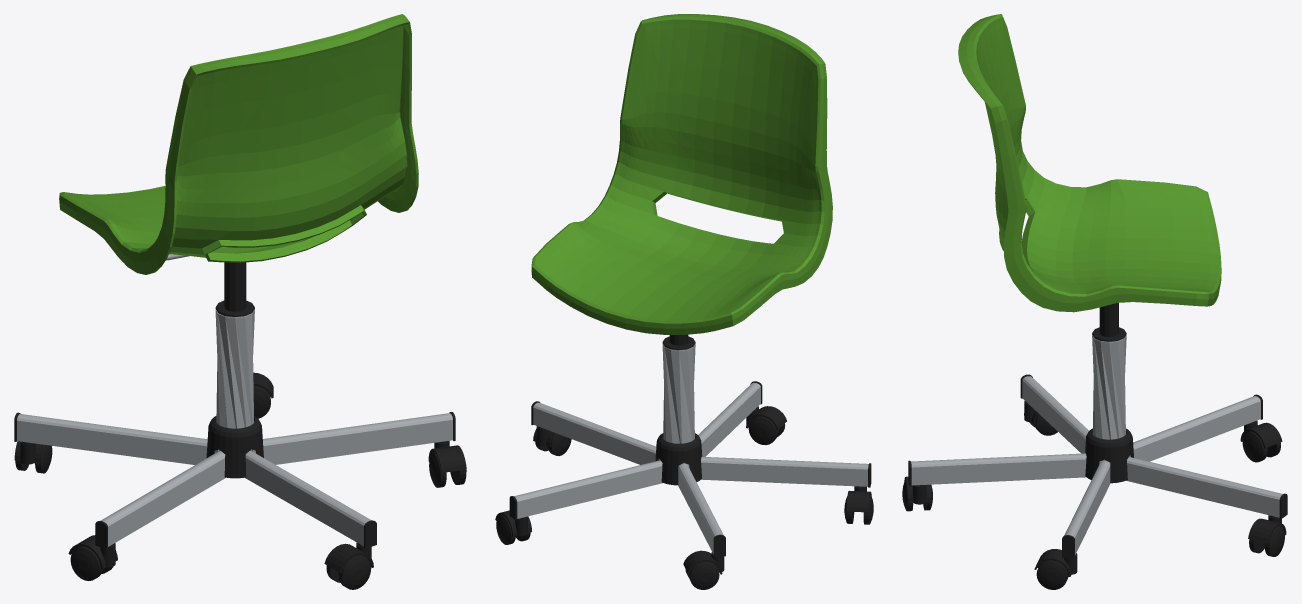
The picture shows the model from 3 angles, left to right: view 1: azimuth 30°, elevation 25°; view 2: azimuth 150°, elevation 25°; view 3: azimuth 270°, elevation 25°; orthographic projection. The views are drawn at different scales.
Visible parts, largest first — view 1: Mesh2 Group2 SNILLE_IKEA1 Model, Mesh8 Group6 SNILLE_IKEA1 Model, Mesh7 Group5 SNILLE_IKEA1 Model, Mesh1 Group1 SNILLE_IKEA1 Model, Mesh3 Group3 SNILLE_IKEA1 Model, Mesh20 ROULETTE4 SNILLE_IKEA1 Model, Mesh11 ROULETTE1 SNILLE_IKEA1 Model, Mesh12 ROULETTE2 SNILLE_IKEA1 Model, Mesh18 ROULETTE4 SNILLE_IKEA1 Model, Mesh9 ROULETTE1 SNILLE_IKEA1 Model; view 2: Mesh2 Group2 SNILLE_IKEA1 Model, Mesh8 Group6 SNILLE_IKEA1 Model, Mesh7 Group5 SNILLE_IKEA1 Model, Mesh1 Group1 SNILLE_IKEA1 Model, Mesh23 ROULETTE5 SNILLE_IKEA1 Model, Mesh19 ROULETTE4 SNILLE_IKEA1 Model, Mesh9 ROULETTE1 SNILLE_IKEA1 Model, Mesh21 ROULETTE5 SNILLE_IKEA1 Model, Mesh18 ROULETTE4 SNILLE_IKEA1 Model; view 3: Mesh2 Group2 SNILLE_IKEA1 Model, Mesh8 Group6 SNILLE_IKEA1 Model, Mesh7 Group5 SNILLE_IKEA1 Model, Mesh1 Group1 SNILLE_IKEA1 Model, Mesh3 Group3 SNILLE_IKEA1 Model, Mesh14 ROULETTE2 SNILLE_IKEA1 Model, Mesh15 ROULETTE3 SNILLE_IKEA1 Model, Mesh21 ROULETTE5 SNILLE_IKEA1 Model, Mesh22 ROULETTE5 SNILLE_IKEA1 Model, Mesh12 ROULETTE2 SNILLE_IKEA1 Model.
Boxes of the visible parts, bbox=[...] form: Mesh2 Group2 SNILLE_IKEA1 Model: bbox=[59, 14, 418, 274]; Mesh8 Group6 SNILLE_IKEA1 Model: bbox=[14, 412, 455, 548]; Mesh7 Group5 SNILLE_IKEA1 Model: bbox=[215, 309, 254, 428]; Mesh1 Group1 SNILLE_IKEA1 Model: bbox=[206, 416, 263, 478]; Mesh3 Group3 SNILLE_IKEA1 Model: bbox=[215, 262, 254, 316]; Mesh20 ROULETTE4 SNILLE_IKEA1 Model: bbox=[338, 555, 371, 589]; Mesh11 ROULETTE1 SNILLE_IKEA1 Model: bbox=[70, 546, 102, 580]; Mesh12 ROULETTE2 SNILLE_IKEA1 Model: bbox=[428, 440, 466, 472]; Mesh18 ROULETTE4 SNILLE_IKEA1 Model: bbox=[324, 542, 373, 572]; Mesh9 ROULETTE1 SNILLE_IKEA1 Model: bbox=[68, 535, 117, 568]; Mesh2 Group2 SNILLE_IKEA1 Model: bbox=[531, 14, 832, 334]; Mesh8 Group6 SNILLE_IKEA1 Model: bbox=[509, 381, 871, 557]; Mesh7 Group5 SNILLE_IKEA1 Model: bbox=[662, 344, 695, 443]; Mesh1 Group1 SNILLE_IKEA1 Model: bbox=[655, 433, 702, 485]; Mesh23 ROULETTE5 SNILLE_IKEA1 Model: bbox=[689, 561, 719, 589]; Mesh19 ROULETTE4 SNILLE_IKEA1 Model: bbox=[748, 416, 778, 445]; Mesh9 ROULETTE1 SNILLE_IKEA1 Model: bbox=[846, 486, 871, 512]; Mesh21 ROULETTE5 SNILLE_IKEA1 Model: bbox=[683, 550, 724, 574]; Mesh18 ROULETTE4 SNILLE_IKEA1 Model: bbox=[746, 406, 786, 429]; Mesh2 Group2 SNILLE_IKEA1 Model: bbox=[958, 14, 1221, 312]; Mesh8 Group6 SNILLE_IKEA1 Model: bbox=[908, 374, 1287, 558]; Mesh7 Group5 SNILLE_IKEA1 Model: bbox=[1092, 335, 1126, 439]; Mesh1 Group1 SNILLE_IKEA1 Model: bbox=[1085, 428, 1133, 483]; Mesh3 Group3 SNILLE_IKEA1 Model: bbox=[1092, 303, 1126, 341]; Mesh14 ROULETTE2 SNILLE_IKEA1 Model: bbox=[1036, 560, 1068, 589]; Mesh15 ROULETTE3 SNILLE_IKEA1 Model: bbox=[1248, 515, 1286, 543]; Mesh21 ROULETTE5 SNILLE_IKEA1 Model: bbox=[1240, 420, 1282, 448]; Mesh22 ROULETTE5 SNILLE_IKEA1 Model: bbox=[1242, 431, 1267, 462]; Mesh12 ROULETTE2 SNILLE_IKEA1 Model: bbox=[1034, 549, 1077, 576].
Size of the model in its own units: 0.5974 by 0.758 by 0.5779.
